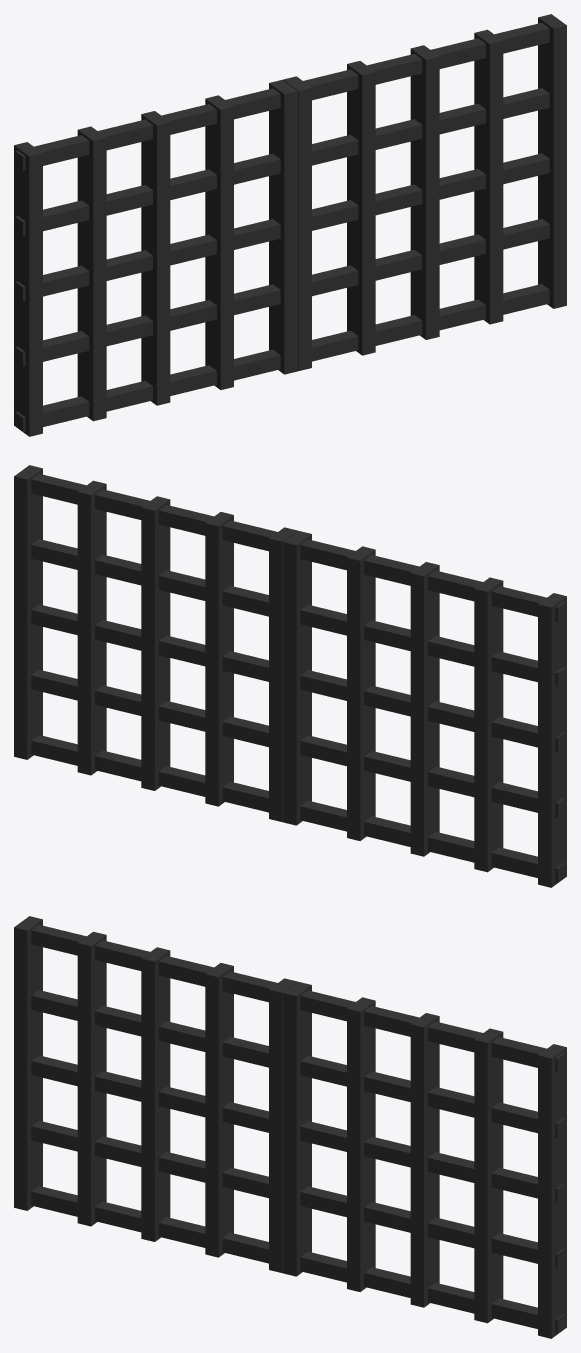
Rendered from Verja.fbx.
3 renders of one model, top to bottom at view 1: azimuth 30°, elevation 25°; view 2: azimuth 150°, elevation 25°; view 3: azimuth 330°, elevation 25°, orthographic.
Visible parts, largest first — view 1: Cube.002; view 2: Cube.002; view 3: Cube.002.
Boxes of the visible parts, x1,y1,x2,y2 form: Cube.002: (14, 14, 566, 436); Cube.002: (14, 465, 566, 887); Cube.002: (14, 916, 566, 1338).
Bounding box in the file's own units: 404 × 200 × 20.
